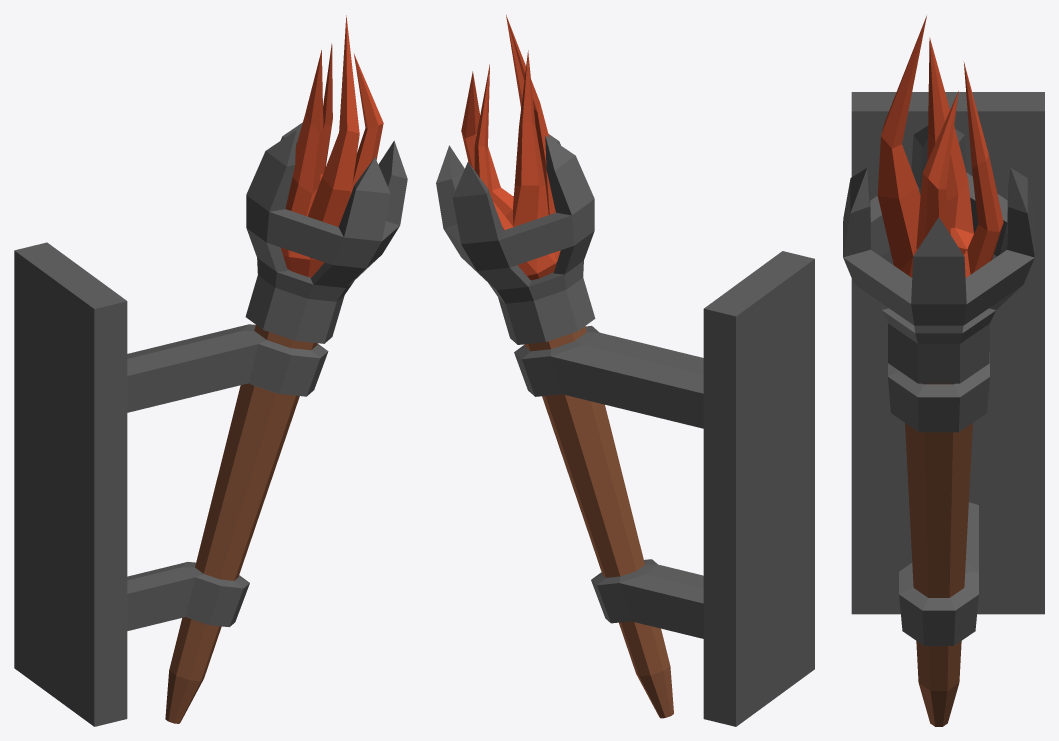
Rendered from Torch_wall.glb.
3 views of the same model, side by side, from view 1: azimuth 30°, elevation 25°; view 2: azimuth 150°, elevation 25°; view 3: azimuth 270°, elevation 25° (orthographic). The views are drawn at different scales.
Visible parts, largest first — view 1: Torch; view 2: Torch; view 3: Torch.
Boxes of the visible parts, bbox=[...] form: Torch: bbox=[14, 15, 407, 726]; Torch: bbox=[436, 15, 814, 726]; Torch: bbox=[843, 15, 1044, 726].
Size of the model in its own units: 1.1 by 2.08 by 0.4704.
